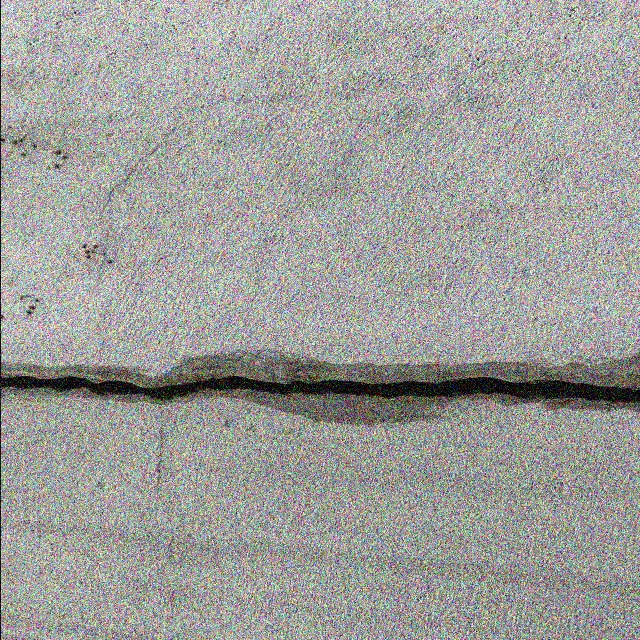SurfaceCrack: (0, 320, 639, 453)
